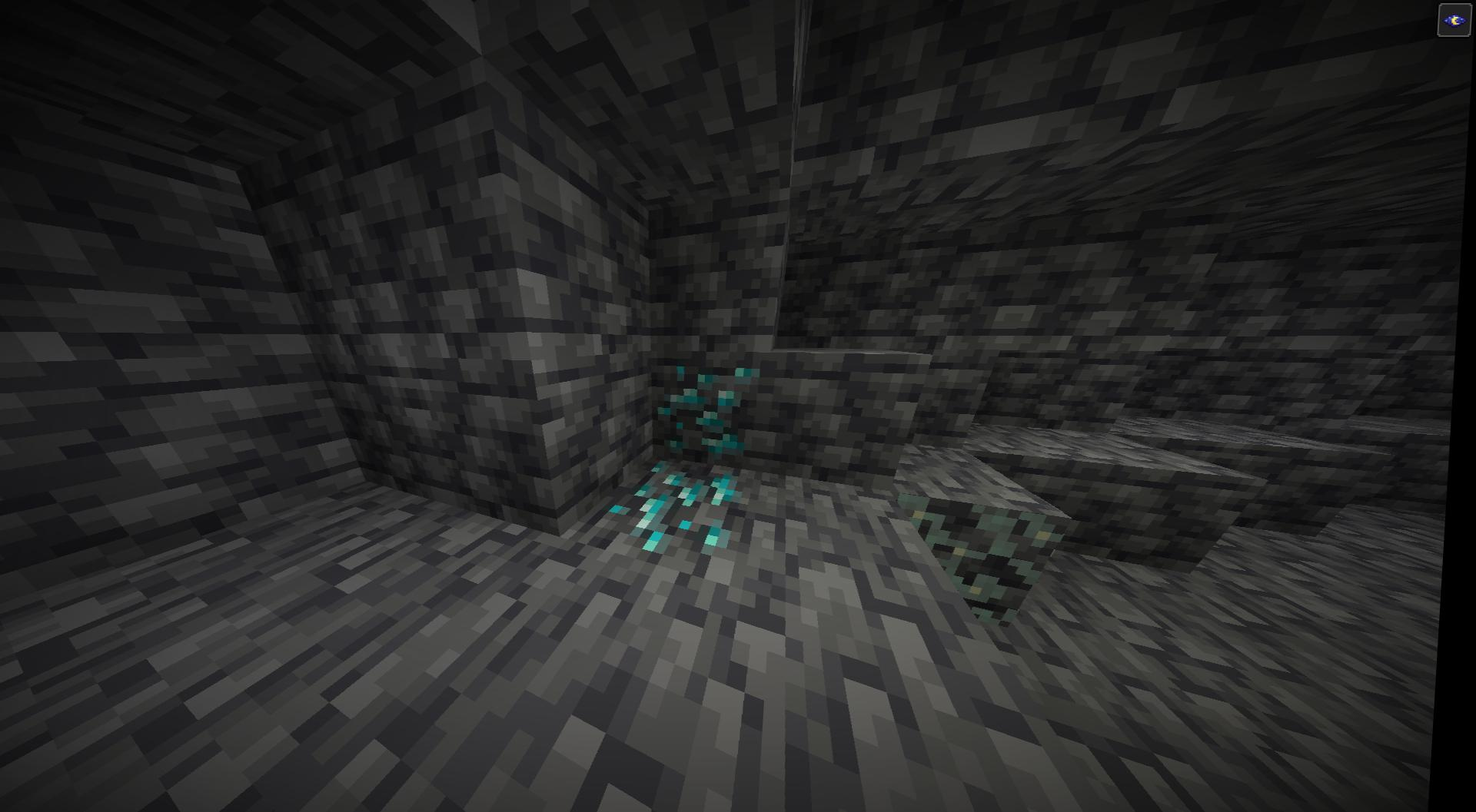diamond ore: (613, 460, 753, 558), (656, 361, 767, 455)
